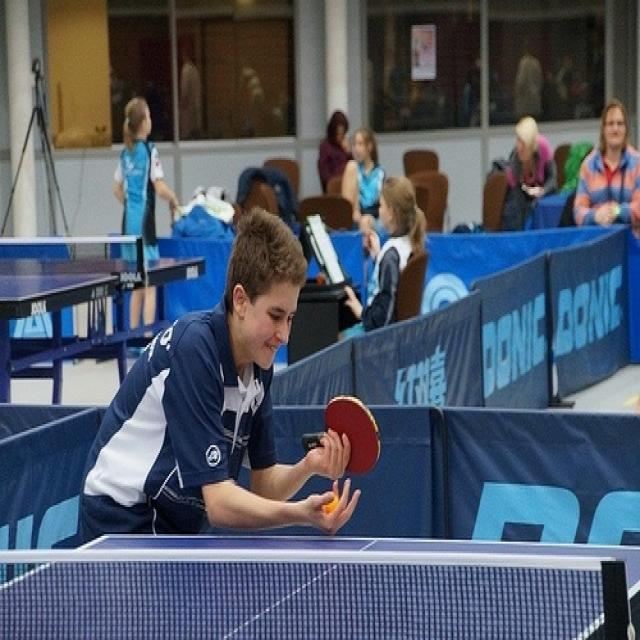TT Net: (0, 549, 636, 639), (0, 234, 152, 279)
TT Racket: (306, 384, 401, 487)
TT Table: (0, 536, 639, 639), (1, 258, 203, 299)
